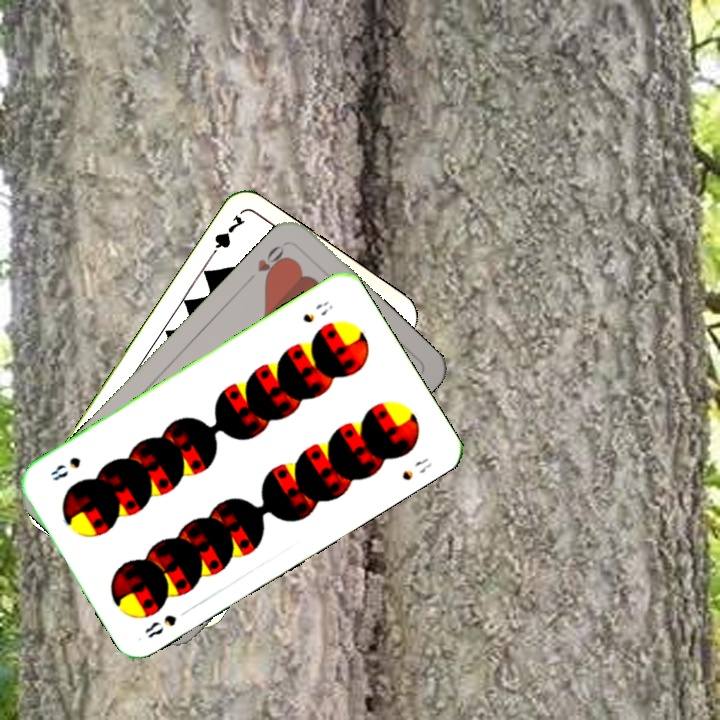G7: (204, 211, 248, 262)
HO: (253, 240, 291, 285)
S8: (140, 610, 179, 641), (299, 297, 336, 325)
